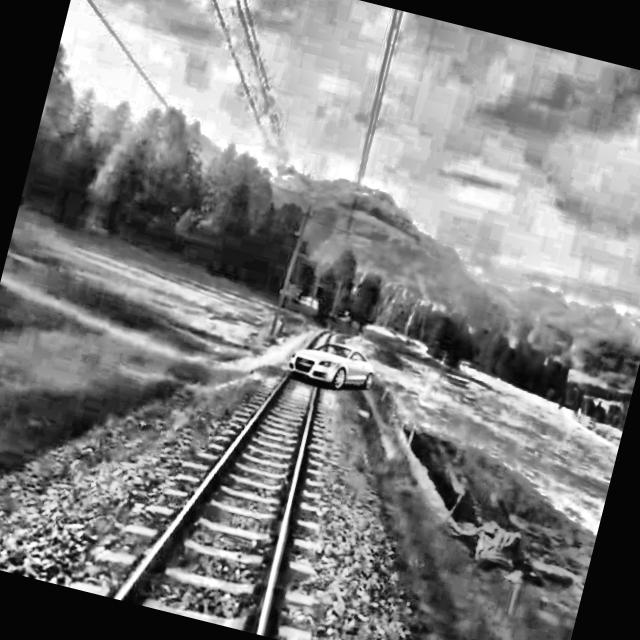Car: (280, 322, 388, 402)
